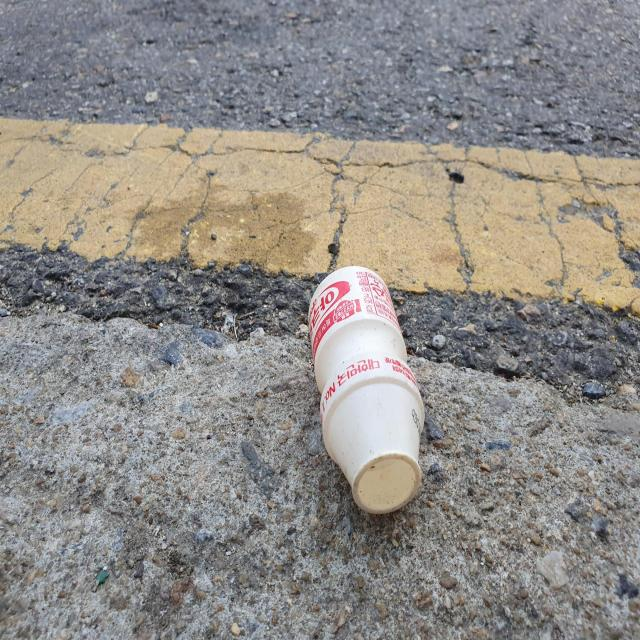plastic: (309, 266, 426, 514)
